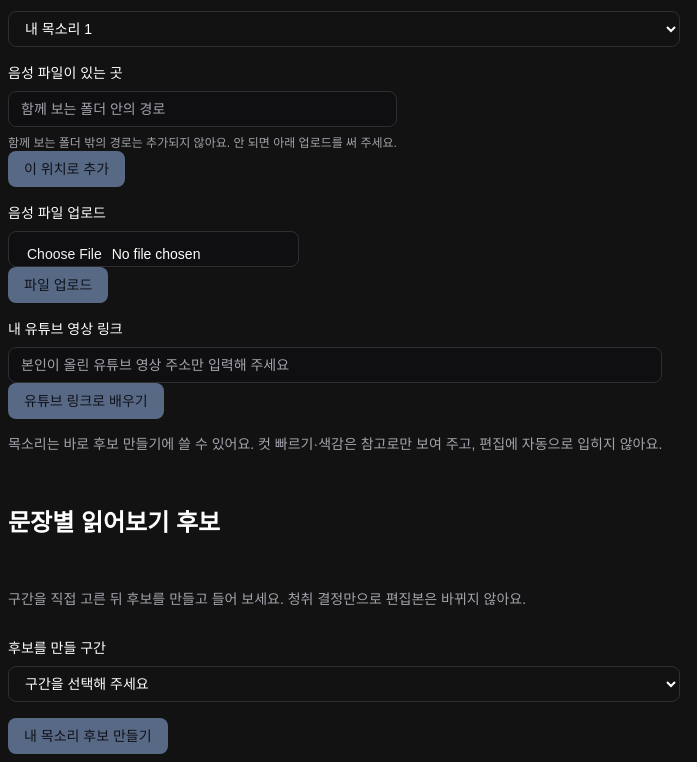
Test case: VoiceTtsSettings › keeps the newest A candidate read when an older A success arrives after A to B to A
The image size is (697, 762).
(page scrolled)
Select "1번 구간 · 첫 문장을 소개합니다" in the dropdown labelled "후보를 만들 구간": (344, 684) [8,666,680,702]
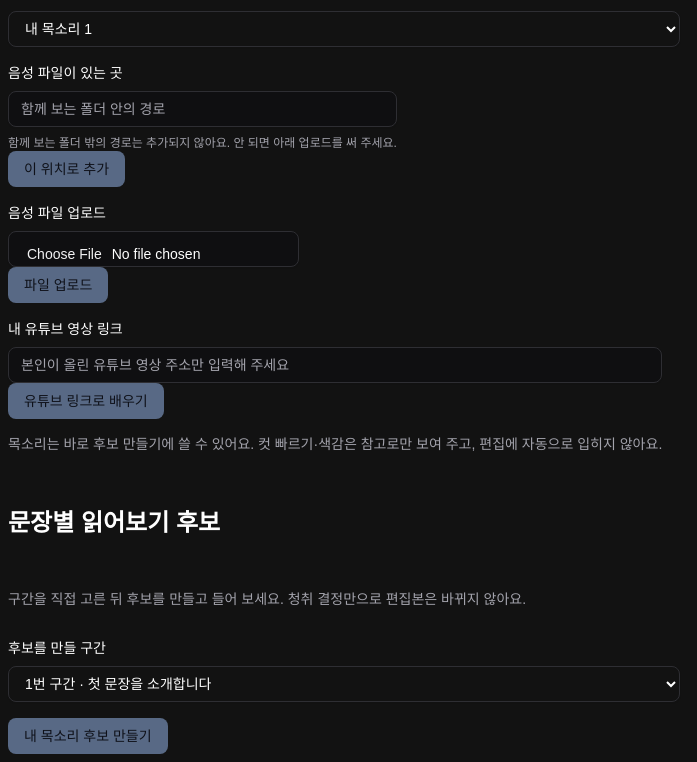
Select "2번 구간 · 두 번째 문장을 이어갑니다" in the dropdown labelled "후보를 만들 구간": (344, 684) [8,666,680,702]
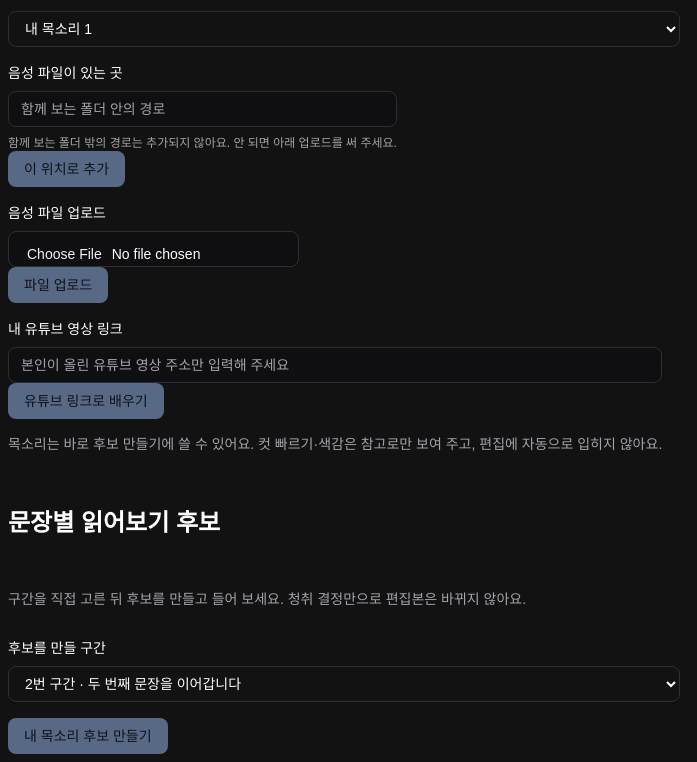
Select "1번 구간 · 첫 문장을 소개합니다" in the dropdown labelled "후보를 만들 구간": (344, 684) [8,666,680,702]
(page scrolled)
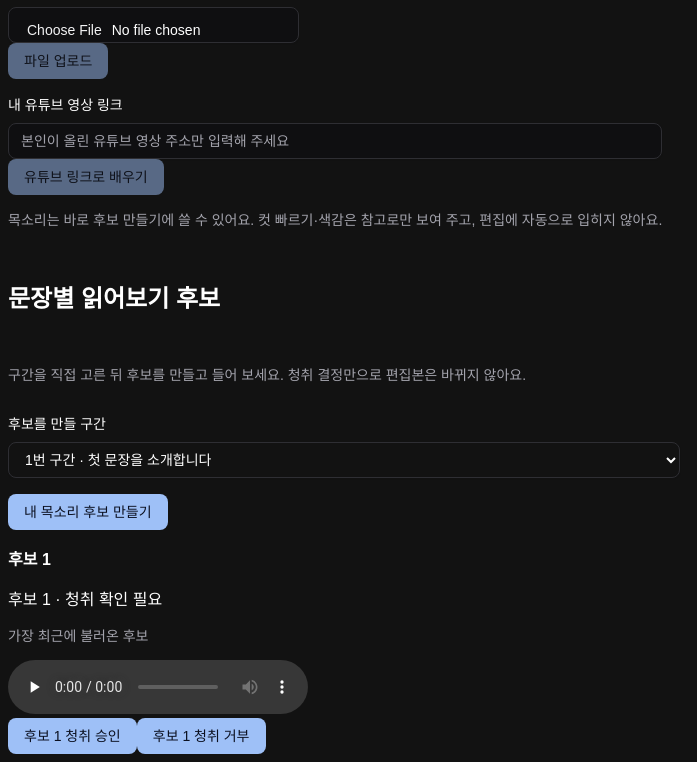
Expected: the text "가장 최근에 불러온 후보" is shown, [8,628,148,644]
